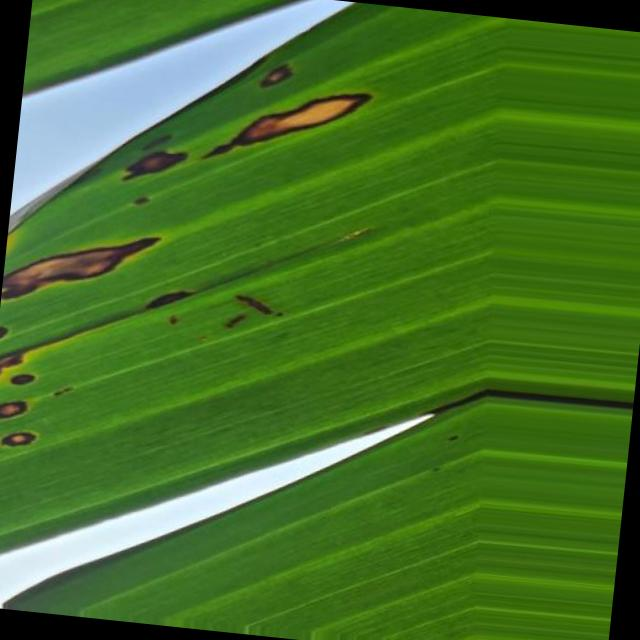Banana_Black_Sigatoka: (0, 0, 386, 564)
